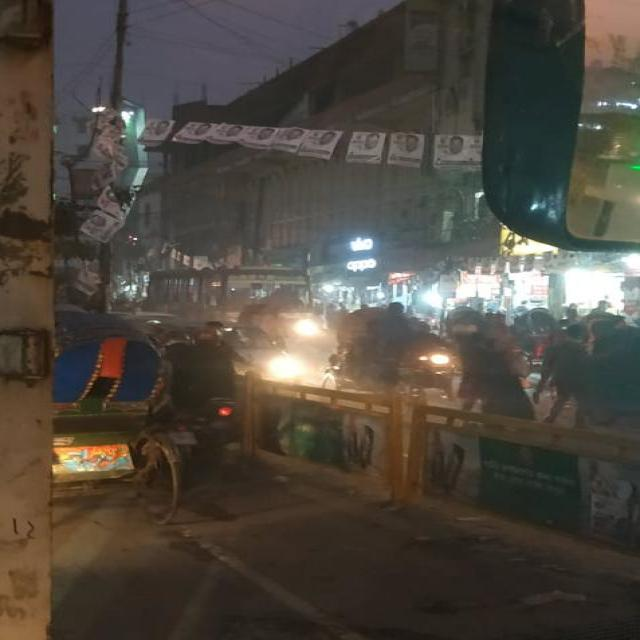motorbike: (161, 324, 251, 461), (415, 313, 456, 403)
rickshaw: (50, 304, 186, 532), (316, 302, 431, 416), (442, 299, 516, 381), (510, 305, 579, 387), (230, 301, 300, 365), (580, 310, 638, 360)
